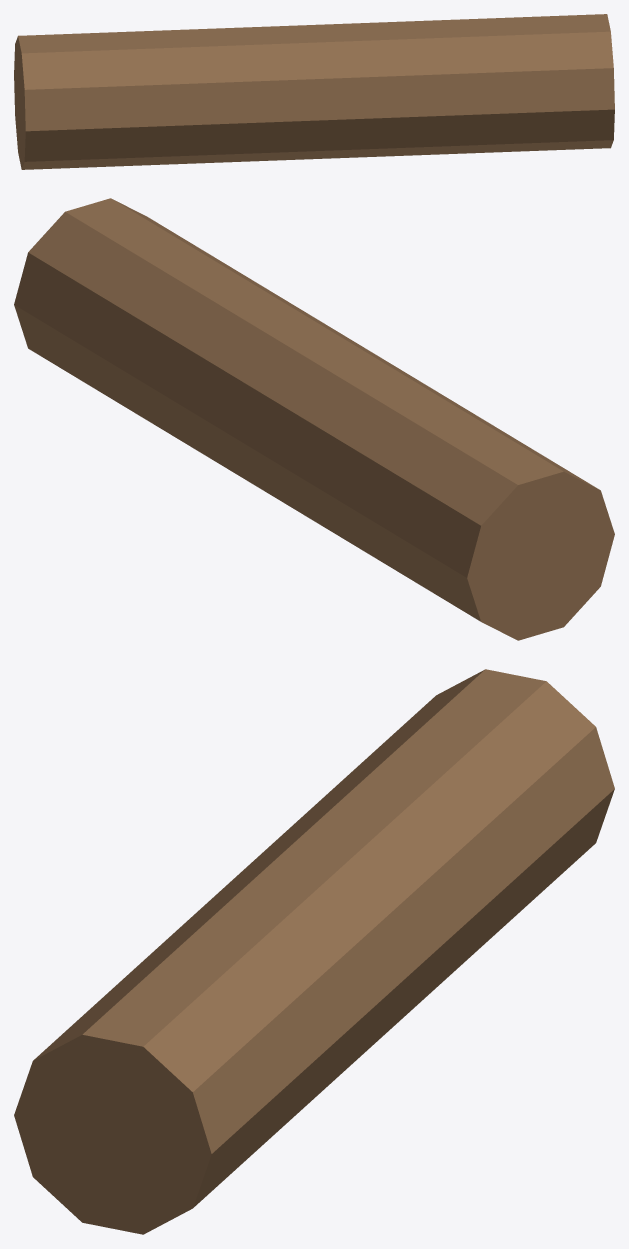
Rendered from banco_2_lev1.glb.
3 views of the same model, one above another, from view 1: azimuth 30°, elevation 25°; view 2: azimuth 150°, elevation 25°; view 3: azimuth 270°, elevation 25° (orthographic). The views are drawn at different scales.
Visible parts, largest first — view 1: banco_2_lev1; view 2: banco_2_lev1; view 3: banco_2_lev1.
Boxes of the visible parts, <box> form: banco_2_lev1: <box>14,14,614,169</box>; banco_2_lev1: <box>14,198,614,640</box>; banco_2_lev1: <box>14,669,614,1234</box>.
Size of the model in its own units: 2.11 by 0.4565 by 1.32.
